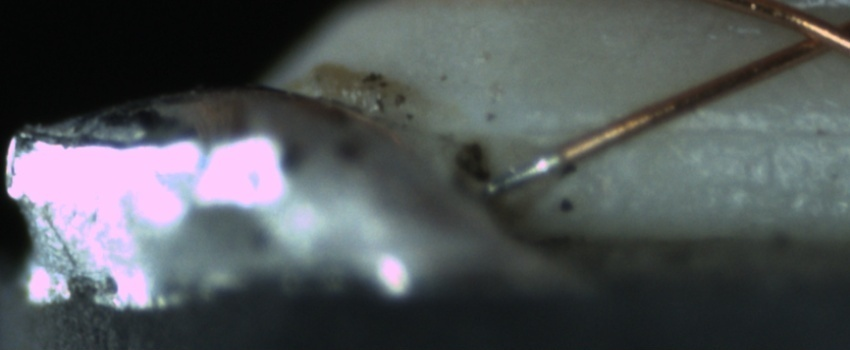CL: (773, 4, 848, 65)
DL: (548, 96, 850, 160)
TS: (486, 152, 566, 198)
TTCW: (476, 139, 589, 198)
